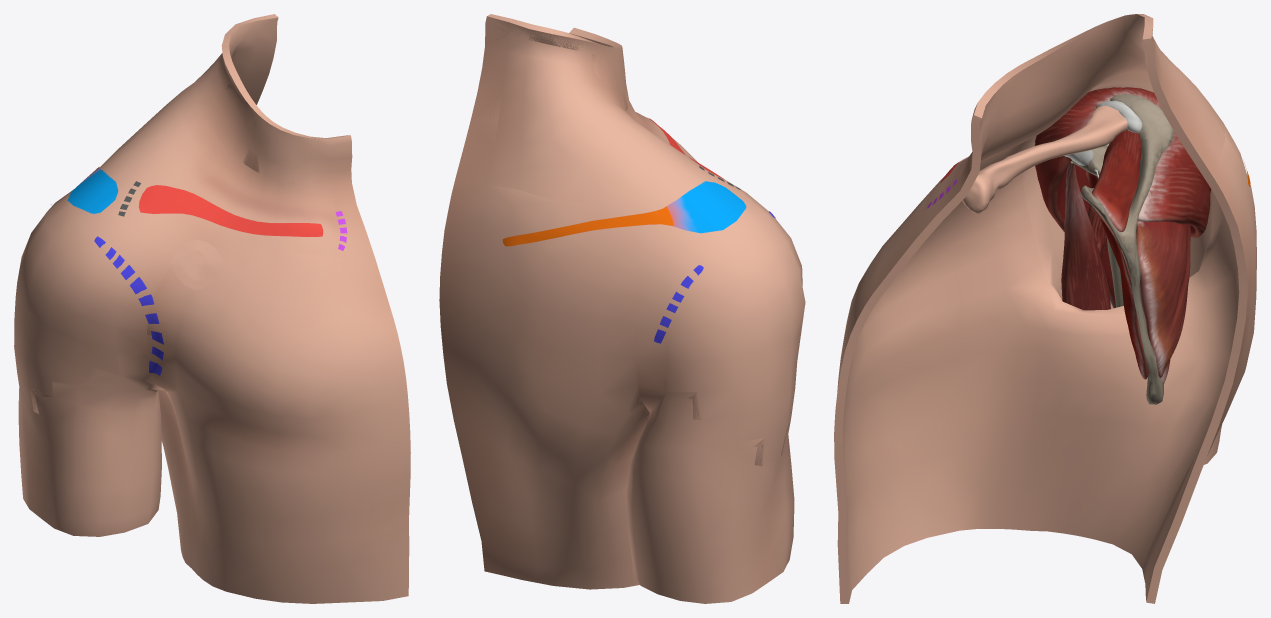
Rendered from ShoulderCutNew.gltf.
3 renders of one model, left to right at view 1: azimuth 30°, elevation 25°; view 2: azimuth 150°, elevation 25°; view 3: azimuth 270°, elevation 25°, orthographic. The views are drawn at different scales.
Visible parts, largest first — view 1: Skin.001, Skin v2.001, Calvicle Overlay, Coracoid process overlay, Scapula Overlay, Glenohumeral joint overlay; view 2: Skin.001, Skin v2.001, Scapula Overlay, Glenohumeral joint overlay; view 3: Skin.001, Deltoid, Infraspinatus, Biceps_Brachii, Clavicle, Scapula, Supraspinatus, Subscapularis, Scapular_spine, Skin v2.001, Acromion.
Part boxes in pixels (x1,y1,x2,y2): Skin.001: (14, 14, 410, 603); Skin v2.001: (21, 82, 374, 446); Calvicle Overlay: (118, 181, 347, 250); Coracoid process overlay: (171, 239, 223, 289); Scapula Overlay: (67, 167, 118, 213); Glenohumeral joint overlay: (51, 204, 163, 375); Skin.001: (439, 14, 805, 603); Skin v2.001: (471, 17, 790, 493); Scapula Overlay: (502, 181, 746, 246); Glenohumeral joint overlay: (654, 211, 775, 343); Skin.001: (834, 14, 1256, 603); Deltoid: (1034, 87, 1211, 308); Infraspinatus: (1136, 220, 1190, 377); Biceps_Brachii: (1061, 163, 1110, 310); Clavicle: (962, 105, 1127, 214); Scapula: (1081, 131, 1171, 404); Supraspinatus: (1092, 129, 1141, 232); Subscapularis: (1086, 171, 1148, 379); Scapular_spine: (1130, 139, 1160, 260); Skin v2.001: (904, 38, 1234, 239); Acromion: (1110, 94, 1174, 140).
Size of the model in its own units: 17.47 by 31.36 by 21.25.
5 materials, 5 textured.
